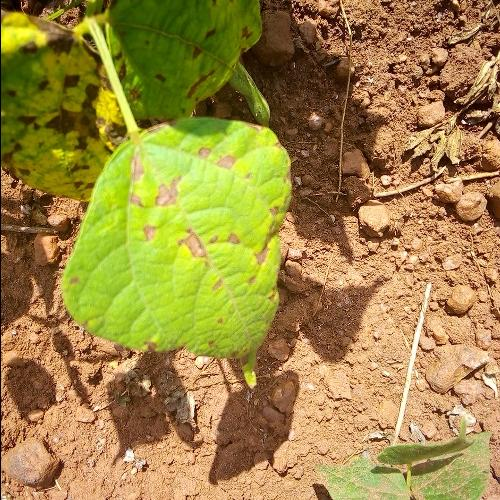hawar: (118, 145, 230, 296), (264, 138, 287, 225), (254, 241, 276, 276)
mozaik: (70, 134, 264, 352)
